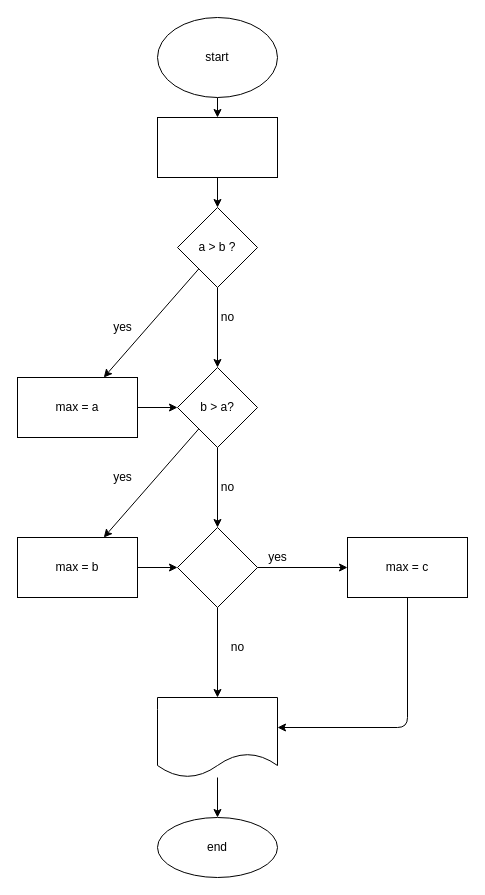
The diagram is 485 pixels wide and 895 high, and some of its shapes have lost their labels. Each missing label, with the centre of its shape:
c > a?: the point at 217,567
введите число а b c max = a: the point at 217,147
вывод max: the point at 217,737
